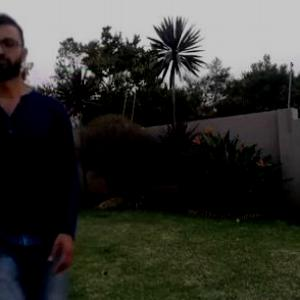follow: (1, 9, 89, 299)
